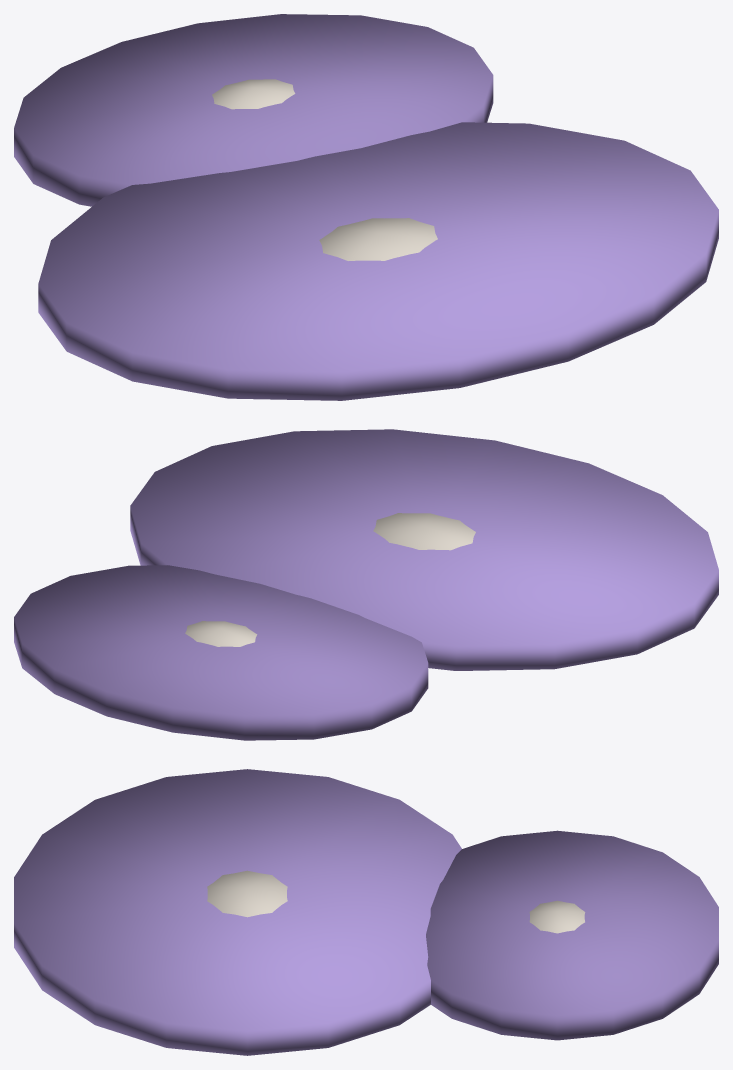
File: SH_Fly_Wing_Lav.fbx
3 renders of one model, top to bottom at view 1: azimuth 30°, elevation 25°; view 2: azimuth 150°, elevation 25°; view 3: azimuth 270°, elevation 25°, orthographic. The views are drawn at different scales.
Parts seen in each view (by area): view 1: SH_Fly_Wing_Lav; view 2: SH_Fly_Wing_Lav; view 3: SH_Fly_Wing_Lav.
Boxes of the visible parts, bbox=[...] form: SH_Fly_Wing_Lav: bbox=[14, 14, 718, 400]; SH_Fly_Wing_Lav: bbox=[14, 429, 718, 740]; SH_Fly_Wing_Lav: bbox=[14, 769, 718, 1055].
Size of the model in its own units: 0.068 by 0.00578 by 0.0773.
